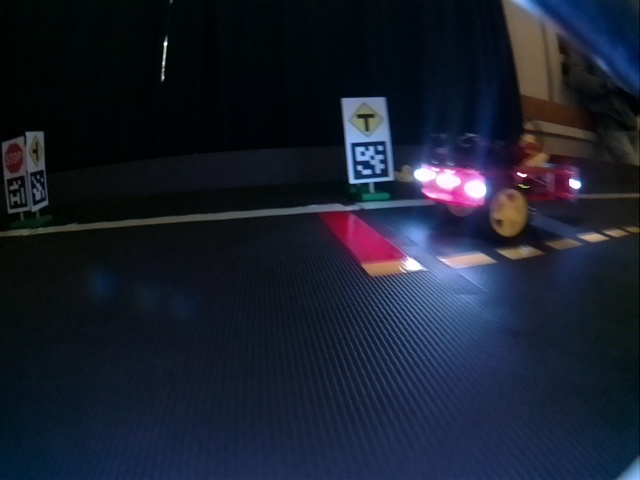Duckie: (396, 166, 415, 183)
Duckiebot: (416, 132, 583, 237)
Intersection sign: (346, 101, 383, 137), (29, 136, 44, 166)
QR code: (351, 142, 391, 179), (7, 177, 27, 206), (30, 172, 46, 204)
Stop sign: (5, 144, 24, 173)
